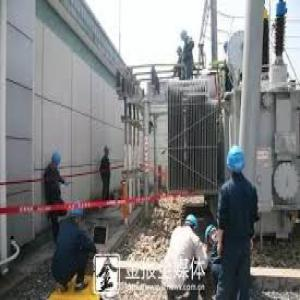blue: (226, 146, 248, 182), (70, 201, 84, 224), (186, 214, 199, 236), (50, 150, 62, 170)
